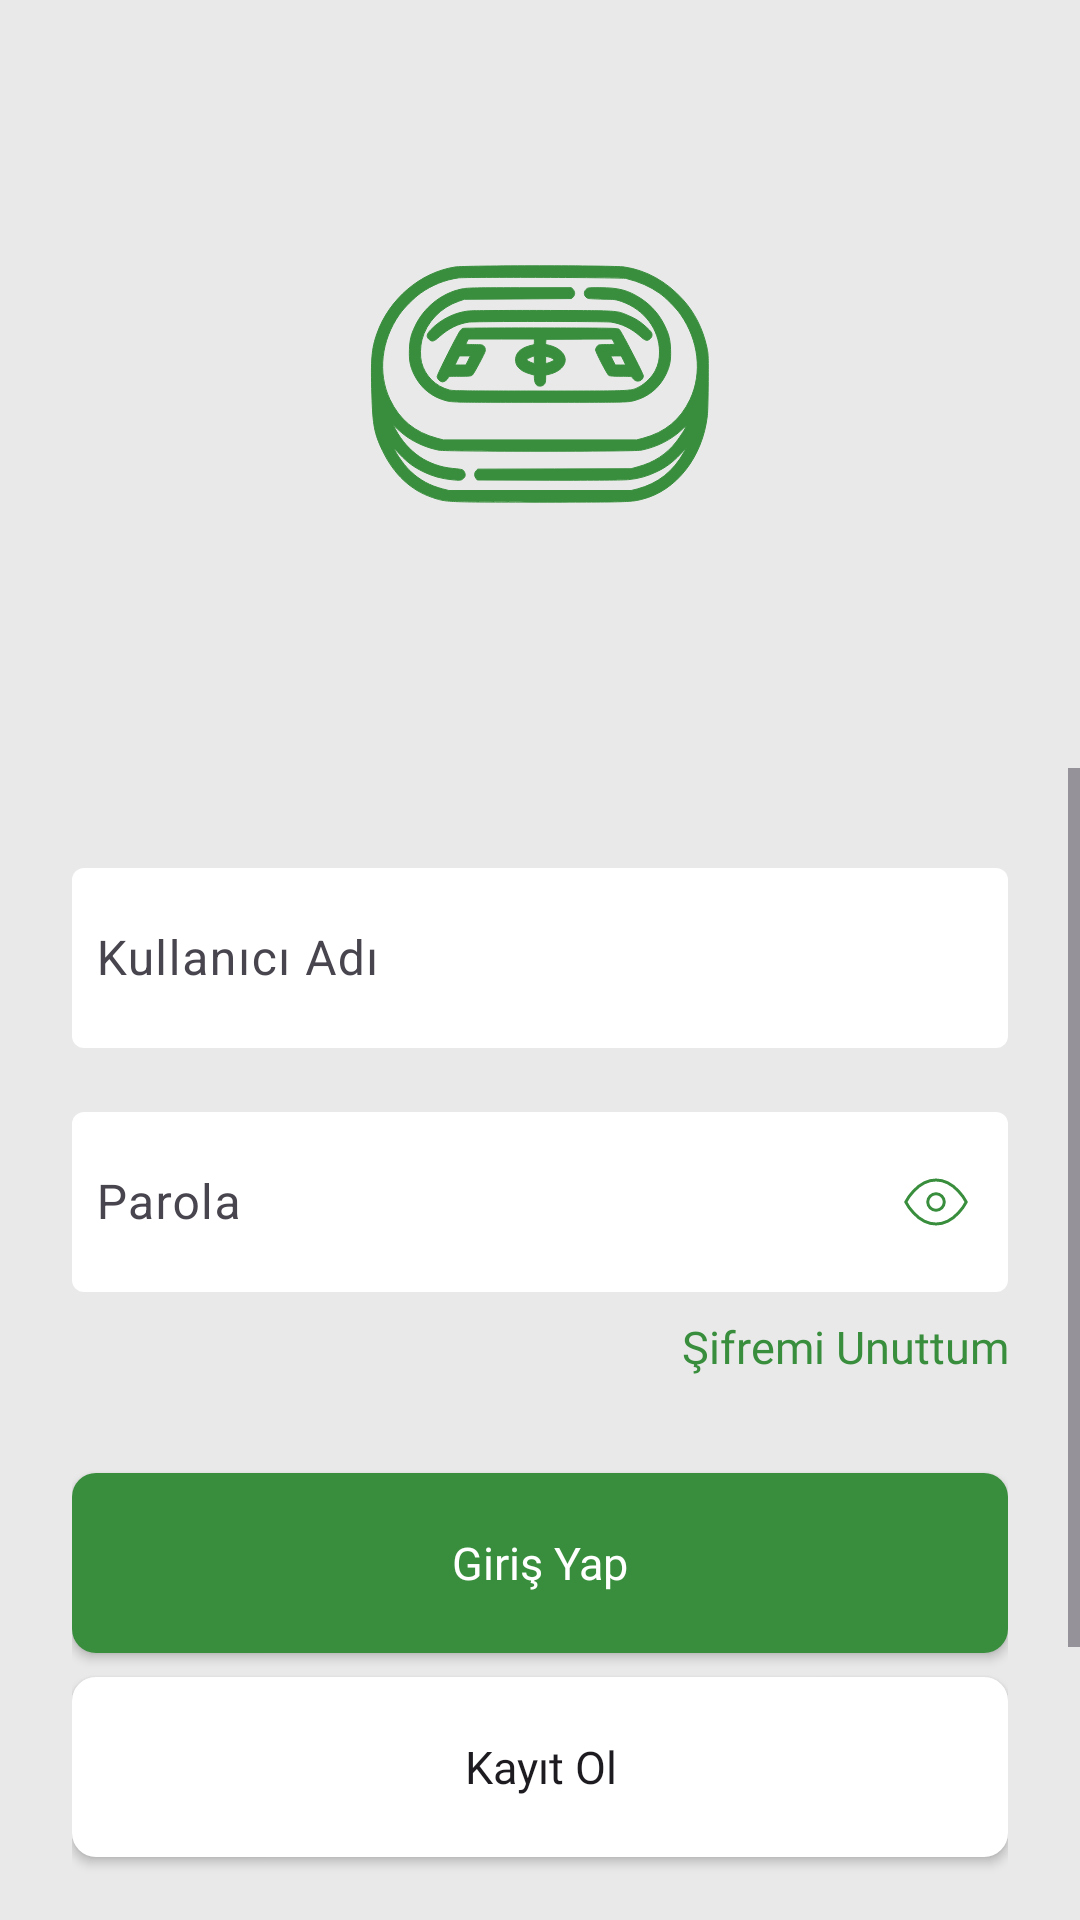

Where to tap for icons on this 1080 x 1920 app screen, as point (x, y):
stadium: point (540, 384)
